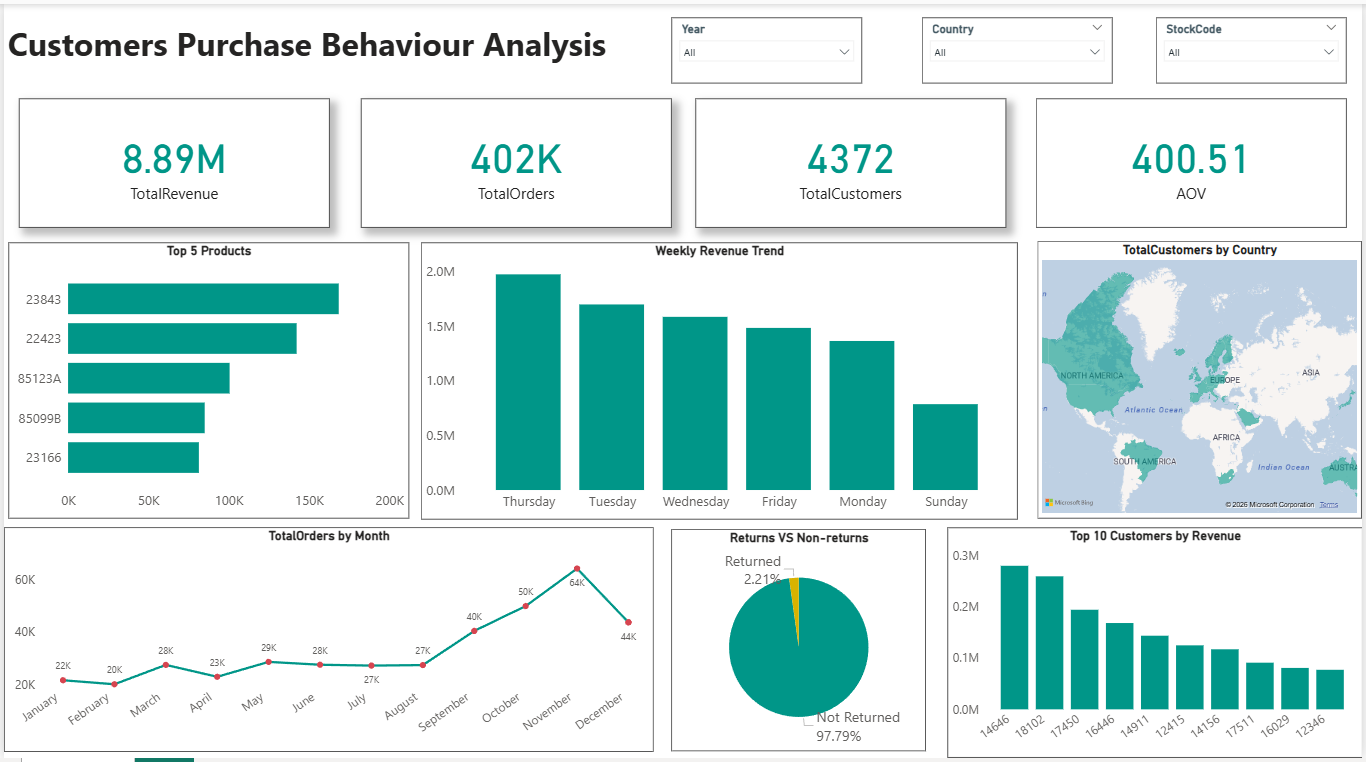

What the dashboard file says about the page in this screenshot:
{"tool":"powerbi","page":{"name":"Page 1","canvas":[1800,1000],"ordinal":0},"visuals":[{"type":"card","fields":{"Values":["clean_data.TotalOrders"]},"box":[0,124.6,411.3,171.4],"z":0},{"type":"card","fields":{"Values":["clean_data.TotalRevenue"]},"box":[473.7,124.6,411.3,171.4],"z":1000},{"type":"card","fields":{"Values":["clean_data.TotalCustomers"]},"box":[934.9,124.6,411.3,171.4],"z":2000},{"type":"card","fields":{"Values":["clean_data.AOV"]},"box":[1371.1,124.6,411.3,171.4],"z":3000},{"type":"columnChart","title":"Top 10 Customers by Revenue","fields":{"Y":["clean_data.TotalRevenue"],"Category":["clean_data.CustomerID"]},"box":[1250.4,694.1,550.9,305.2],"z":4000},{"type":"lineChart","fields":{"Category":["clean_data.InvoiceDate.Variation.Date Hierarchy.Month"],"Y":["clean_data.TotalOrders"]},"box":[0,694.1,861.5,297.1],"z":5000},{"type":"clusteredBarChart","title":"Top 5 Products","fields":{"Category":["clean_data.StockCode"],"Y":["clean_data.TotalRevenue"]},"box":[5.4,316,521.2,367.3],"z":6000},{"type":"pieChart","title":" Returns VS Non-returns","fields":{"Category":["clean_data.Return Status"],"Y":["CountNonNull(clean_data.Return Status)"]},"box":[885.8,696.8,337.6,294.4],"z":7000},{"type":"columnChart","title":"Weekly Revenue Trend","fields":{"Category":["clean_data.DayOfWeek"],"Y":["clean_data.TotalRevenue"]},"box":[553.6,316,791.3,367.3],"z":8000},{"type":"textbox","box":[0,0,823.7,94.5],"z":9000},{"type":"filledMap","fields":{"Category":["clean_data.Country"]},"box":[1371.1,314.7,430,367.7],"z":10000},{"type":"slicer","fields":{"Values":["clean_data.InvoiceDate.Variation.Date Hierarchy.Year"]},"box":[885,18.7,252.4,87.3],"z":11000},{"type":"slicer","fields":{"Values":["clean_data.Country"]},"box":[1218.4,18.7,252.4,87.3],"z":12000},{"type":"slicer","fields":{"Values":["clean_data.StockCode"]},"box":[1526.9,18.7,252.4,87.3],"z":13000}]}

Visuals, with their boxes in screenshot pixels (x1, y1, x2, y2), scaled from the page's 1800x1000 canvas onto the 1366x762 screenshot:
card - clean_data.TotalOrders: (x1=0, y1=95, x2=312, y2=226)
card - clean_data.TotalRevenue: (x1=359, y1=95, x2=672, y2=226)
card - clean_data.TotalCustomers: (x1=709, y1=95, x2=1022, y2=226)
card - clean_data.AOV: (x1=1041, y1=95, x2=1353, y2=226)
"Top 10 Customers by Revenue" columnChart: (x1=949, y1=529, x2=1365, y2=761)
lineChart - clean_data.InvoiceDate.Variation.Date Hierarchy.Month x clean_data.TotalOrders: (x1=0, y1=529, x2=654, y2=755)
"Top 5 Products" clusteredBarChart: (x1=4, y1=241, x2=400, y2=521)
" Returns VS Non-returns" pieChart: (x1=672, y1=531, x2=928, y2=755)
"Weekly Revenue Trend" columnChart: (x1=420, y1=241, x2=1021, y2=521)
textbox: (x1=0, y1=0, x2=625, y2=72)
filledMap - clean_data.Country: (x1=1041, y1=240, x2=1365, y2=520)
slicer - clean_data.InvoiceDate.Variation.Date Hierarchy.Year: (x1=672, y1=14, x2=863, y2=81)
slicer - clean_data.Country: (x1=925, y1=14, x2=1116, y2=81)
slicer - clean_data.StockCode: (x1=1159, y1=14, x2=1350, y2=81)
